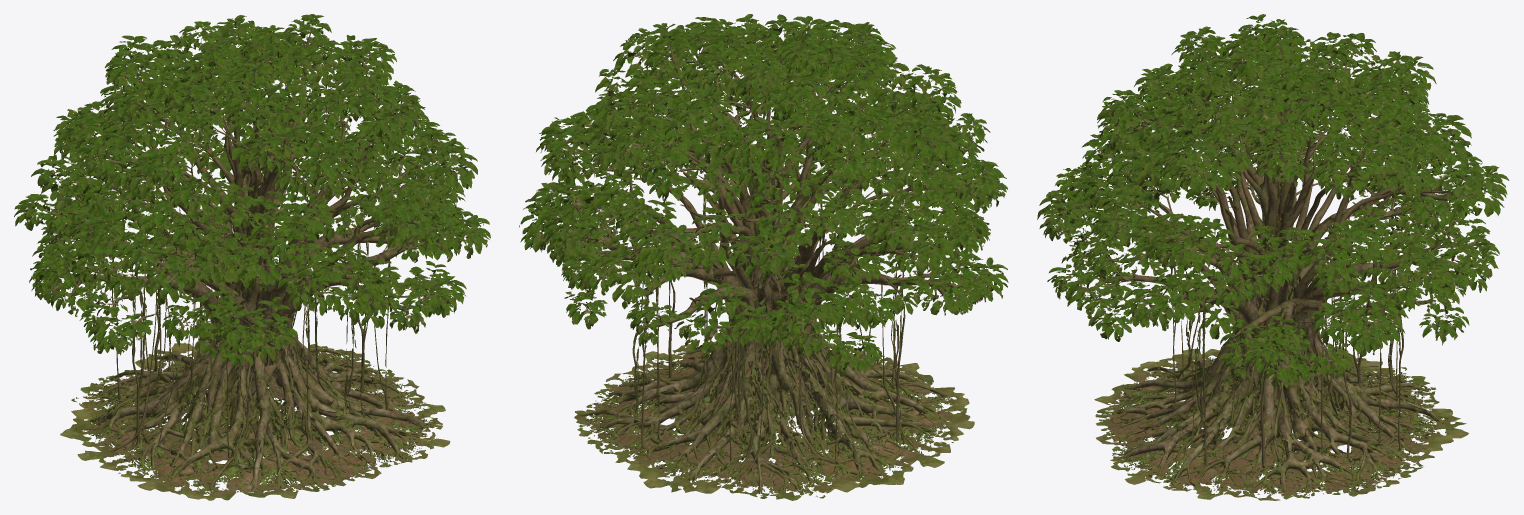
File: cothu1.glb
3 renders of one model, left to right at view 1: azimuth 30°, elevation 25°; view 2: azimuth 150°, elevation 25°; view 3: azimuth 270°, elevation 25°, orthographic. The views are drawn at different scales.
Visible parts, largest first — view 1: geometry_0; view 2: geometry_0; view 3: geometry_0.
Boxes of the visible parts, box(x1,y1,x2,y2) form: geometry_0: box(14, 14, 490, 500); geometry_0: box(519, 14, 1008, 500); geometry_0: box(1037, 14, 1509, 500).
Bounding box in the file's own units: 0.9897 × 0.8803 × 0.992.
Materials: 1 (1 with a texture image).
